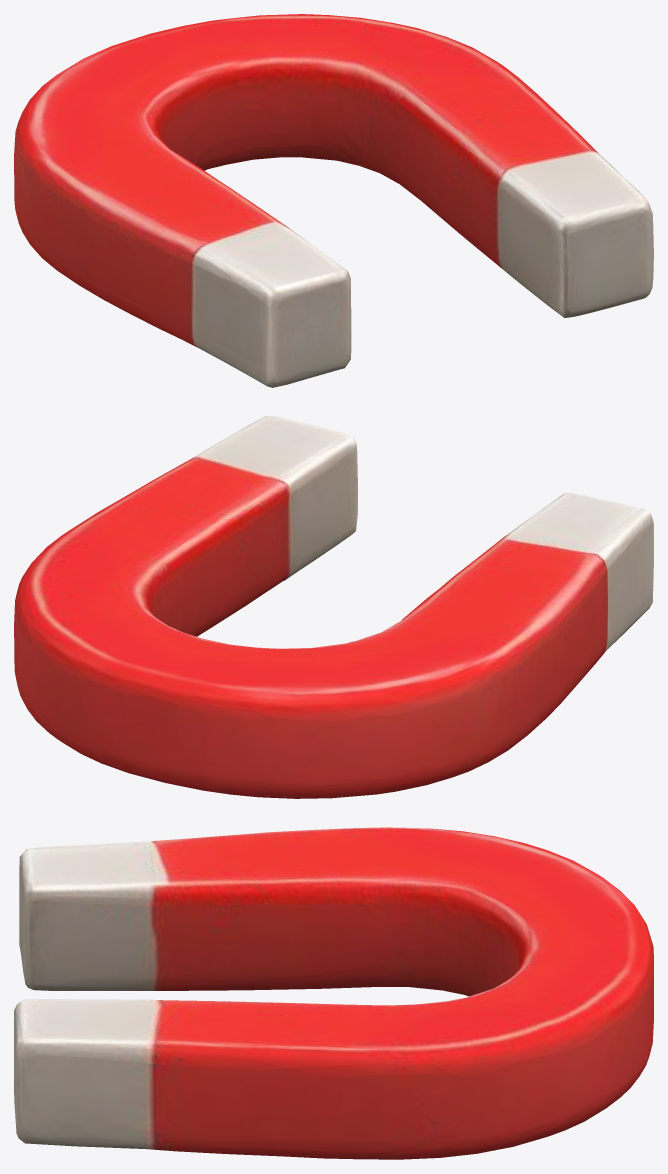
File: magnet.glb
3 views of the same model, one above another, from view 1: azimuth 30°, elevation 25°; view 2: azimuth 150°, elevation 25°; view 3: azimuth 270°, elevation 25° (orthographic). The views are drawn at different scales.
Parts seen in each view (by area): view 1: model; view 2: model; view 3: model.
Part boxes in pixels (x1,y1,x2,y2): model: (14, 14, 653, 387); model: (14, 416, 653, 798); model: (14, 827, 653, 1159).
Size of the model in its own units: 0.9643 by 0.2104 by 1.1.
Materials: 1 (1 with a texture image).
